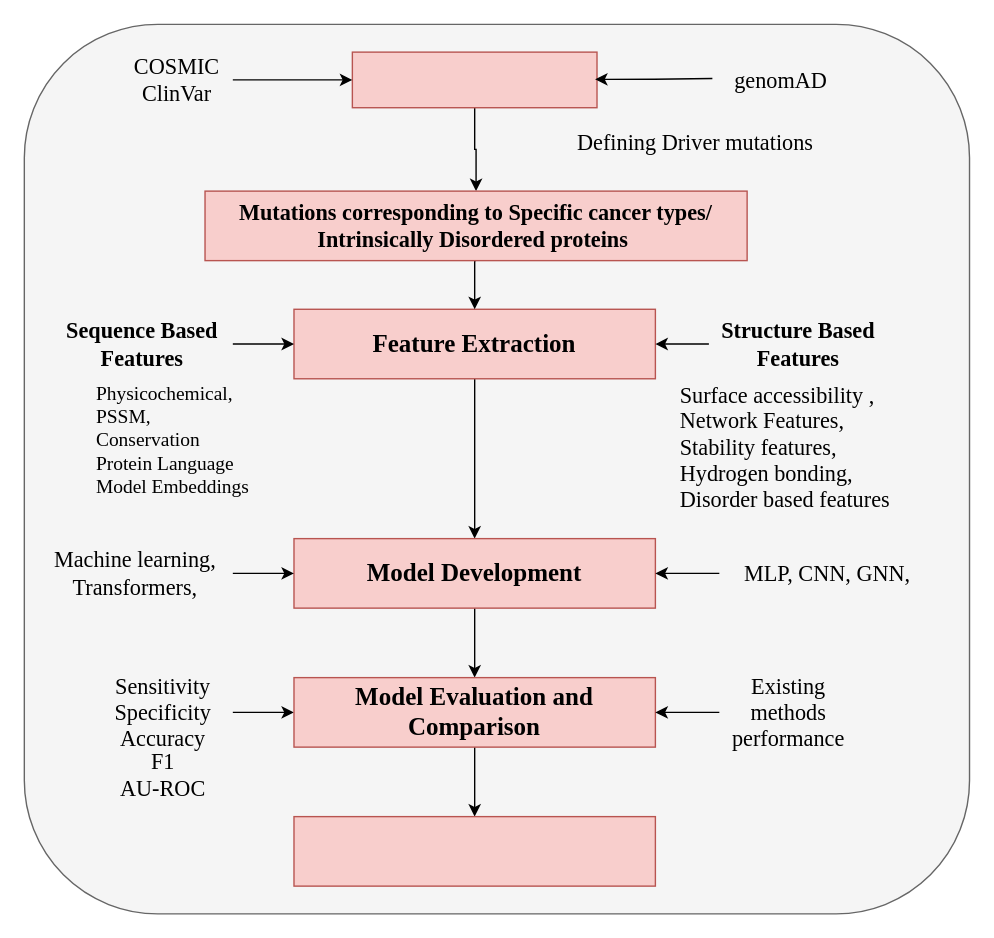
The diagram is 994 pixels wide and 938 high, and some of its shapes have lost their labels. Here are the shapes that lost their labels. From the top down, the box of each, then its label:
(351, 51, 597, 108): Dataset Preparation
(293, 815, 655, 886): Web Server Development
